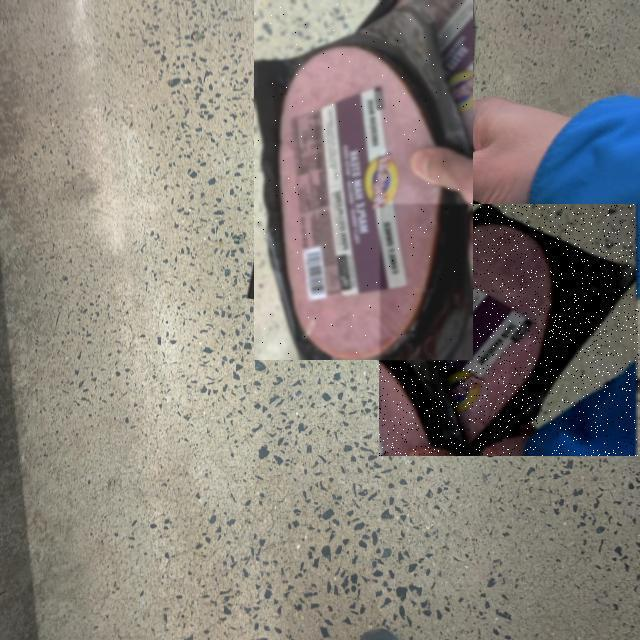Meat: (254, 0, 473, 360), (380, 204, 640, 456)
